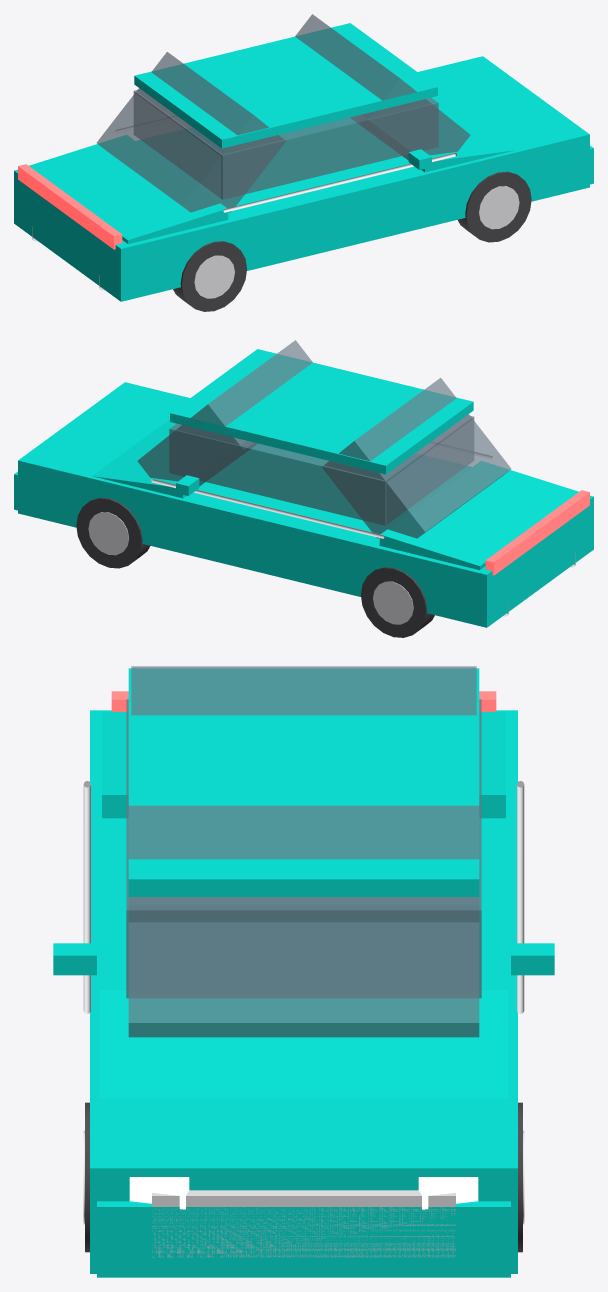
The model's file is sedan.glb.
The picture shows the model from 3 angles, top to bottom: view 1: azimuth 30°, elevation 25°; view 2: azimuth 150°, elevation 25°; view 3: azimuth 270°, elevation 25°; orthographic projection. The views are drawn at different scales.
Visible parts, largest first — view 1: Body, Glass, Wheel_FL, Wheel_RL, Taillight, Rim_RL, Rim_FL, Chrome; view 2: Body, Glass, Wheel_FR, Wheel_RR, Taillight, Rim_RR, Rim_FR, Chrome; view 3: Body, Glass, Chrome, Headlight.
Part boxes in pixels (x1,y1,x2,y2): Body: (14,23,593,301); Glass: (96,14,470,212); Wheel_FL: (457,171,531,242); Wheel_RL: (173,241,246,311); Taillight: (18,164,122,249); Rim_RL: (194,255,234,298); Rim_FL: (479,186,519,229); Chrome: (32,126,456,290); Body: (14,349,593,627); Glass: (137,340,511,538); Wheel_FR: (76,497,150,568); Wheel_RR: (361,567,434,637); Taillight: (485,490,589,575); Rim_RR: (373,581,413,624); Rim_FR: (88,512,128,555); Chrome: (151,452,575,616); Body: (53,668,554,1277); Glass: (126,666,481,1037); Chrome: (83,781,524,1257); Headlight: (129,1177,478,1209).
Size of the model in its own units: 4.53 by 1.61 by 2.06.
